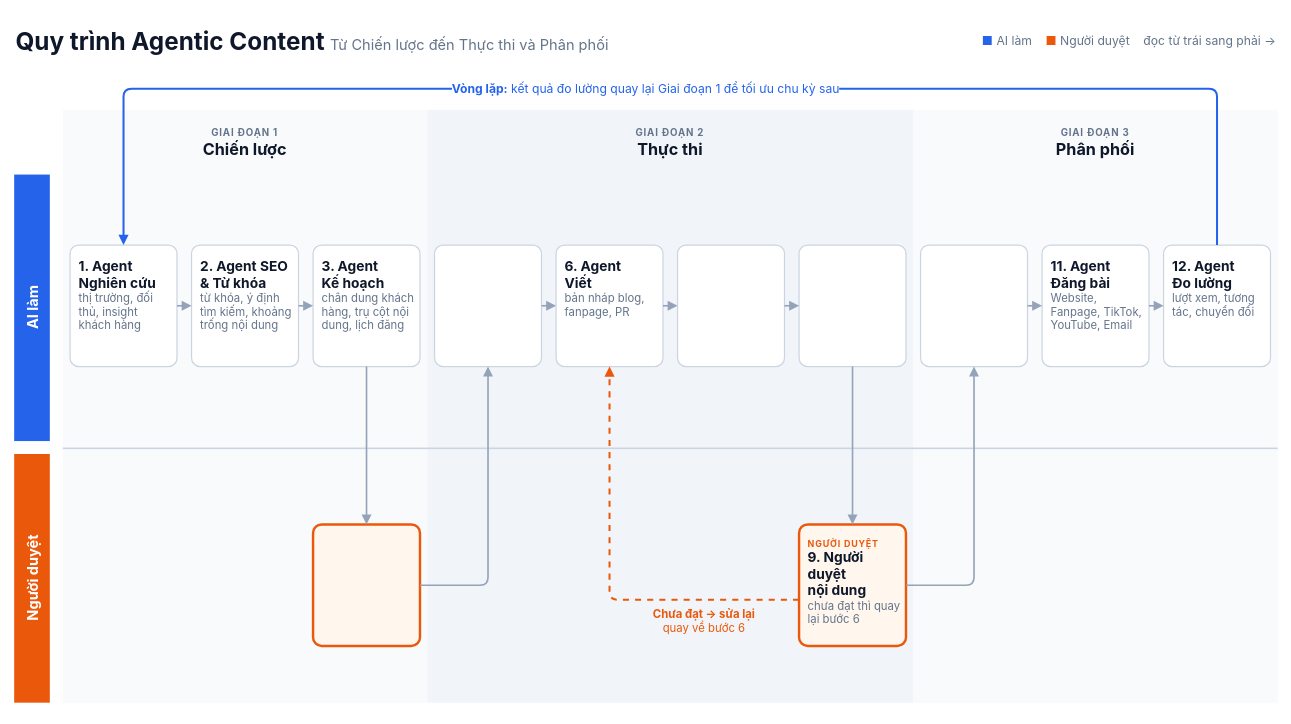
Image size: 1291x724. Some labels were removed from this diagram. Here are the shapes that lost their labels. From the top down, the centre of each, then its label:
the point at 488,305: 5. Agent Brief dàn ý, thông điệp chính
the point at 731,305: 7. Agent Hình ảnh & Video visual, thumbnail, kịch bản video ngắn
the point at 852,305: 8. Agent Biên tập SEO, kiểm chứng thông tin, giọng thương hiệu
the point at 974,305: 10. Agent Chuyển thể 1 bài gốc → post, reel, email
the point at 366,585: NGƯỜI DUYỆT 4. Người duyệt chiến lược người thật xem và chốt chiến lược
